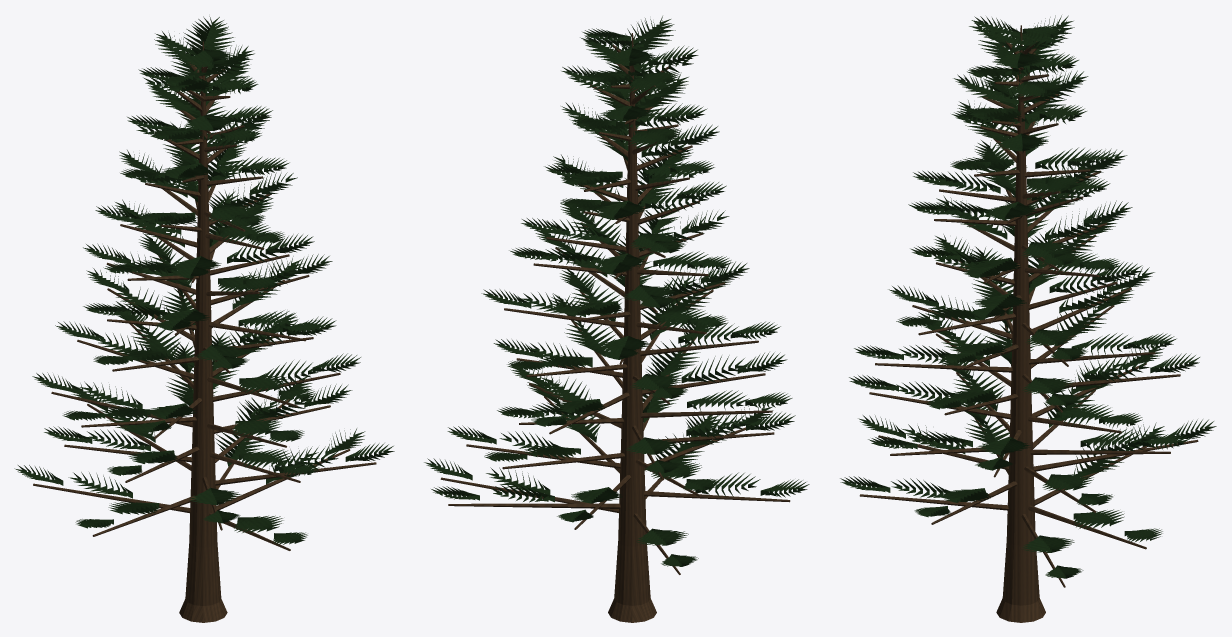
Rendered from level_camp_pine_refined_a.glb.
3 views of the same model, side by side, from view 1: azimuth 30°, elevation 25°; view 2: azimuth 150°, elevation 25°; view 3: azimuth 270°, elevation 25° (orthographic). The views are drawn at different scales.
Visible parts, largest first — view 1: level_camp_pine_refined_a; view 2: level_camp_pine_refined_a; view 3: level_camp_pine_refined_a.
Boxes of the visible parts, x1,y1,x2,y2 form: level_camp_pine_refined_a: [14, 16, 394, 622]; level_camp_pine_refined_a: [424, 16, 809, 622]; level_camp_pine_refined_a: [840, 15, 1216, 622].
Size of the model in its own units: 4.91 by 8.14 by 4.71.
Materials: 2 (2 with a texture image).
